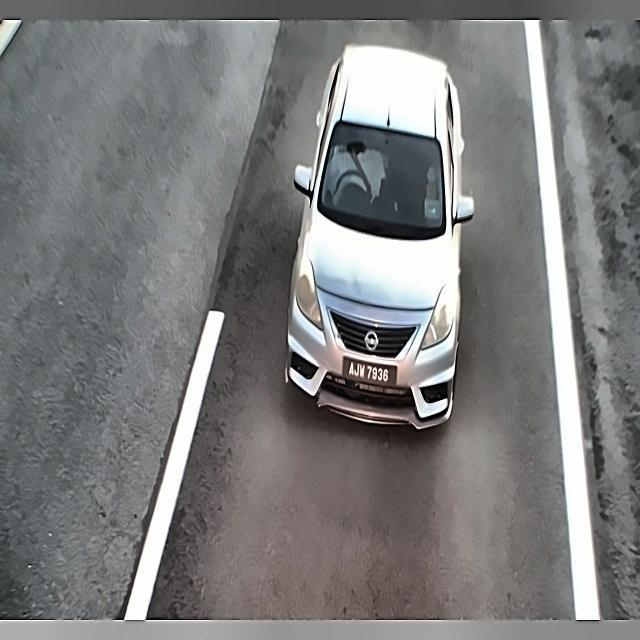car: (341, 350, 402, 391)
